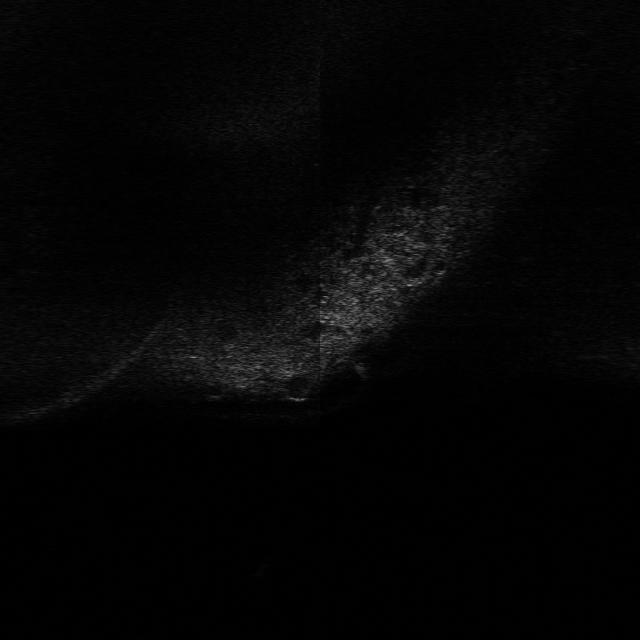cylinder: (349, 356, 373, 384)
